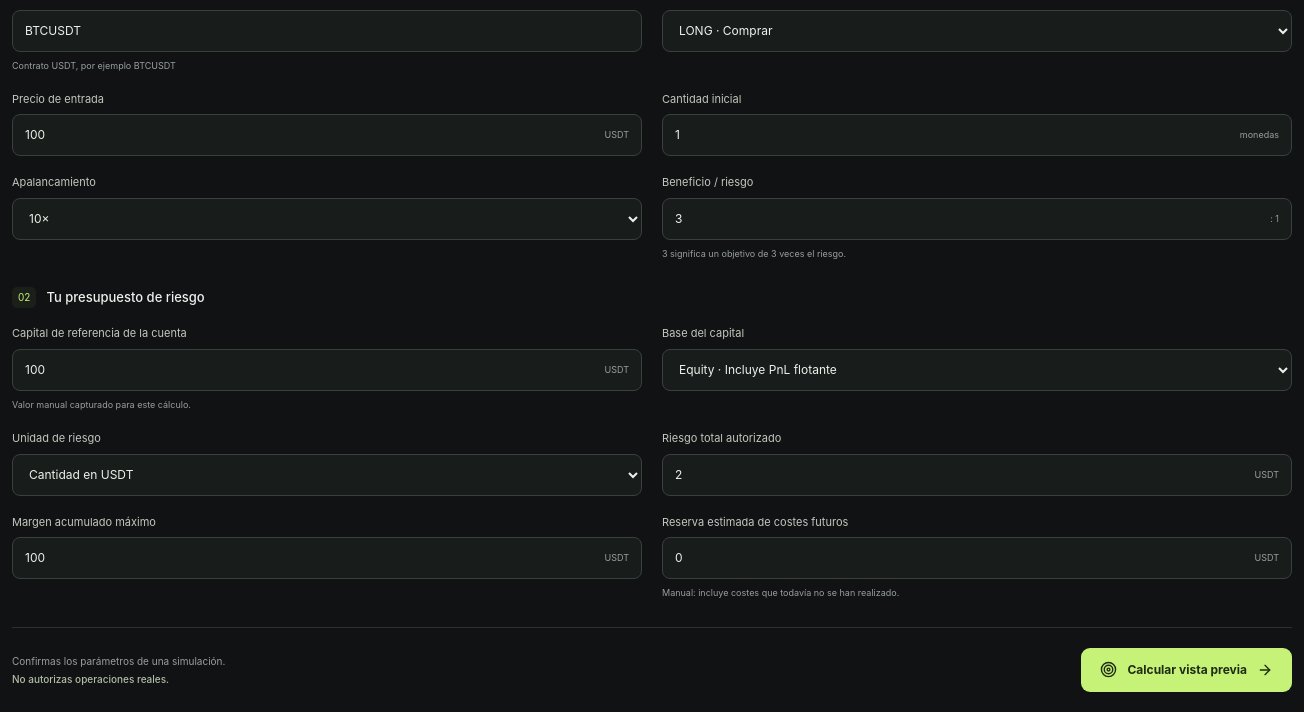
Test case: planner interaction › validates inputs before contacting the backend
(page scrolled)
Replace the text in the field labelled "Riesgo total autorizado" with "-2" at (977, 475), box left=662, top=454, right=1292, bottom=496
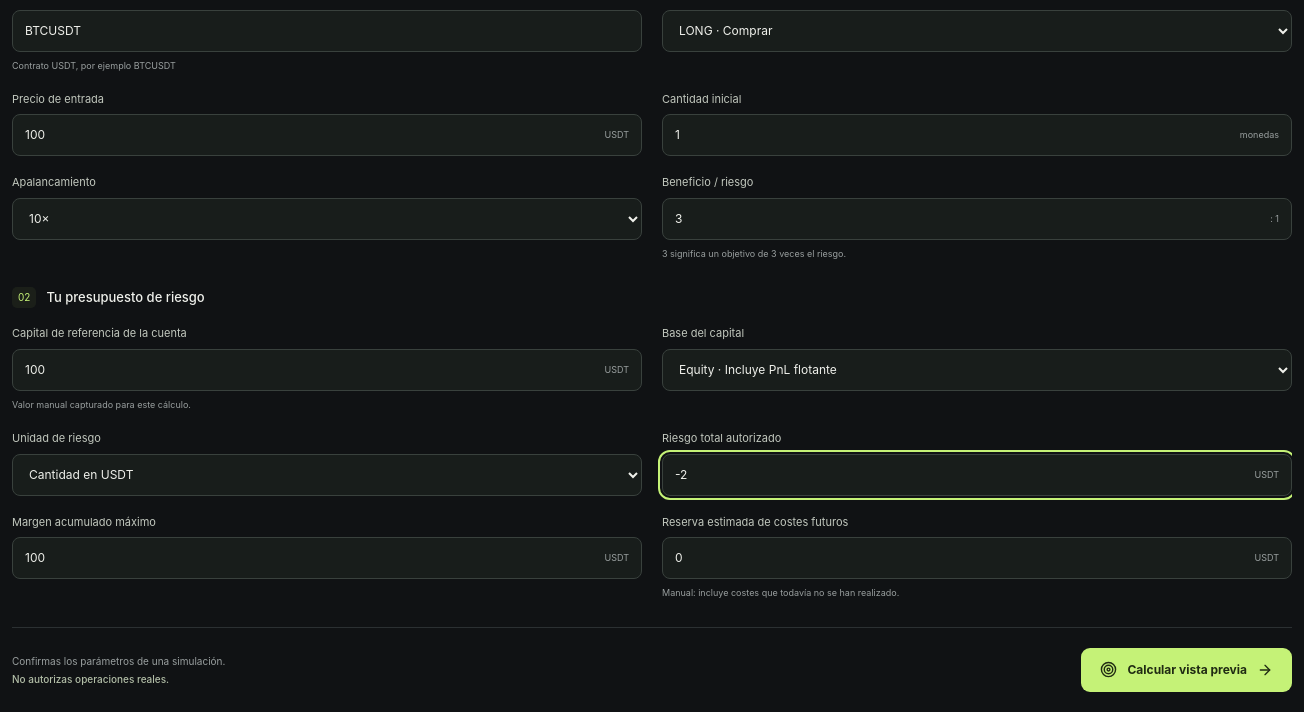
Click the button "Calcular vista previa" at (1187, 670), box left=1082, top=648, right=1292, bottom=692
(page scrolled)
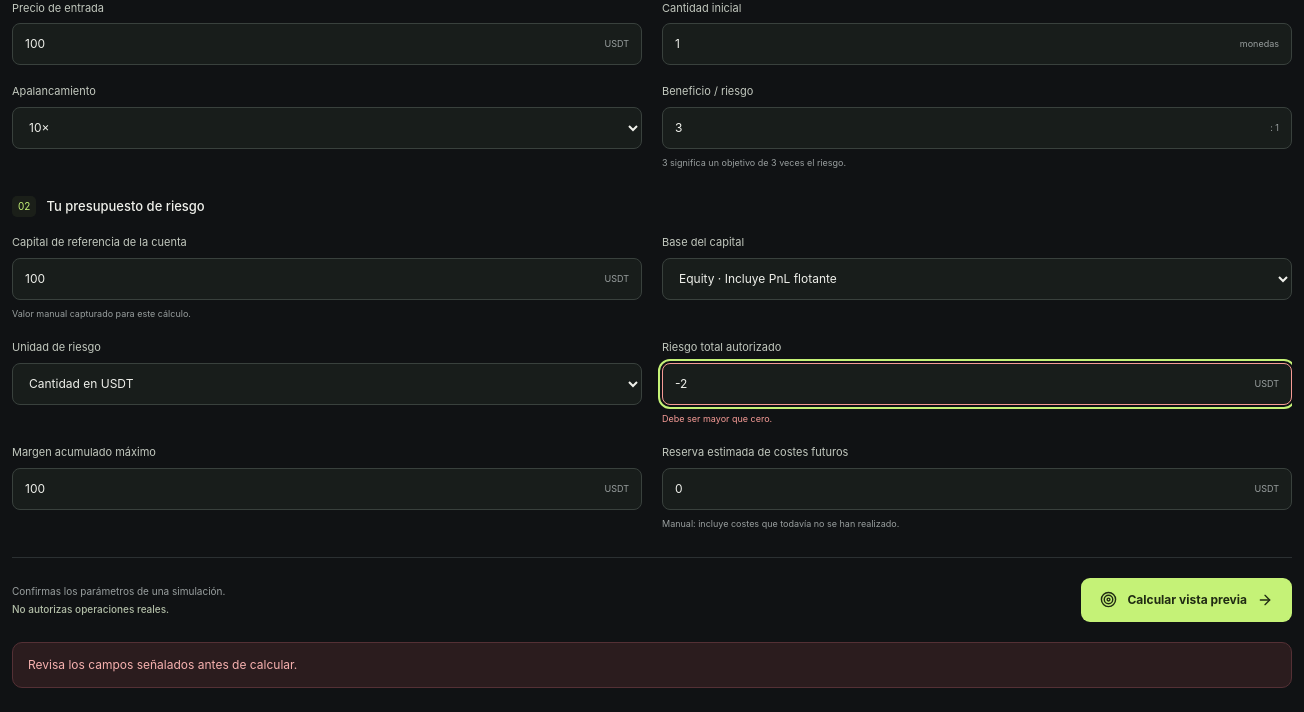
Now the message shows "Revisa los campos", box left=28, top=657, right=297, bottom=672
